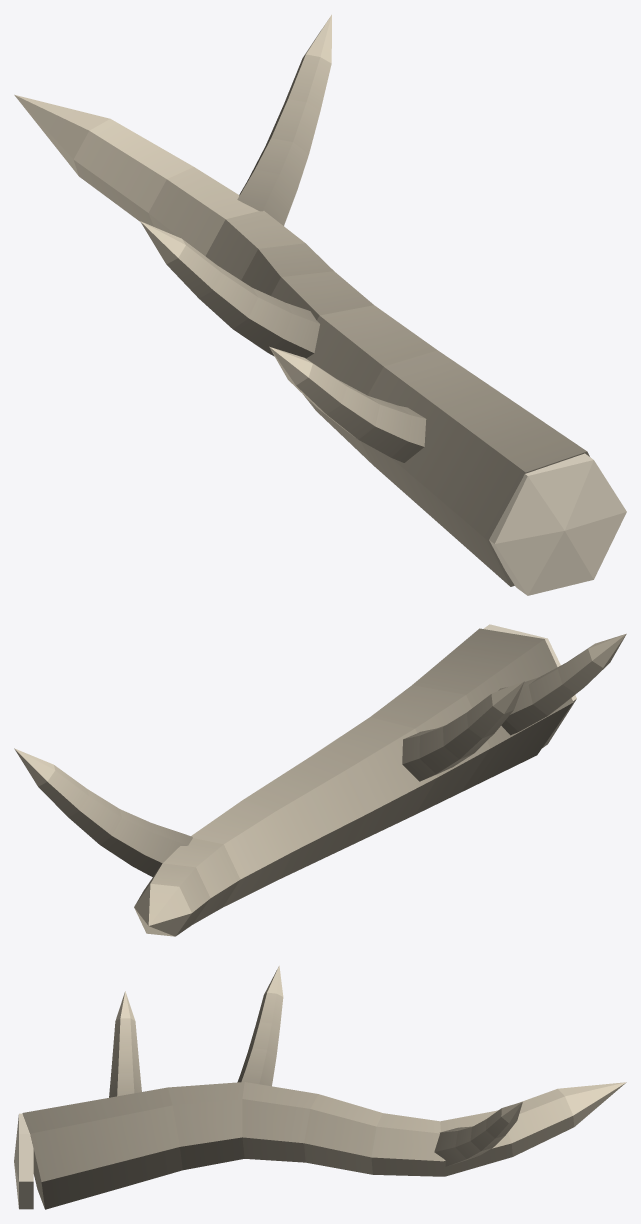
The model's file is Driftwood.glb.
3 views of the same model, one above another, from view 1: azimuth 30°, elevation 25°; view 2: azimuth 150°, elevation 25°; view 3: azimuth 270°, elevation 25° (orthographic). The views are drawn at different scales.
Visible parts, largest first — view 1: Driftwood; view 2: Driftwood; view 3: Driftwood.
Boxes of the visible parts, x1,y1,x2,y2 form: Driftwood: (14,14,626,595); Driftwood: (14,624,626,936); Driftwood: (14,965,626,1209).
Bounding box in the file's own units: 2.13 × 1.42 × 4.65.
Materials: 1 (1 with a texture image).
